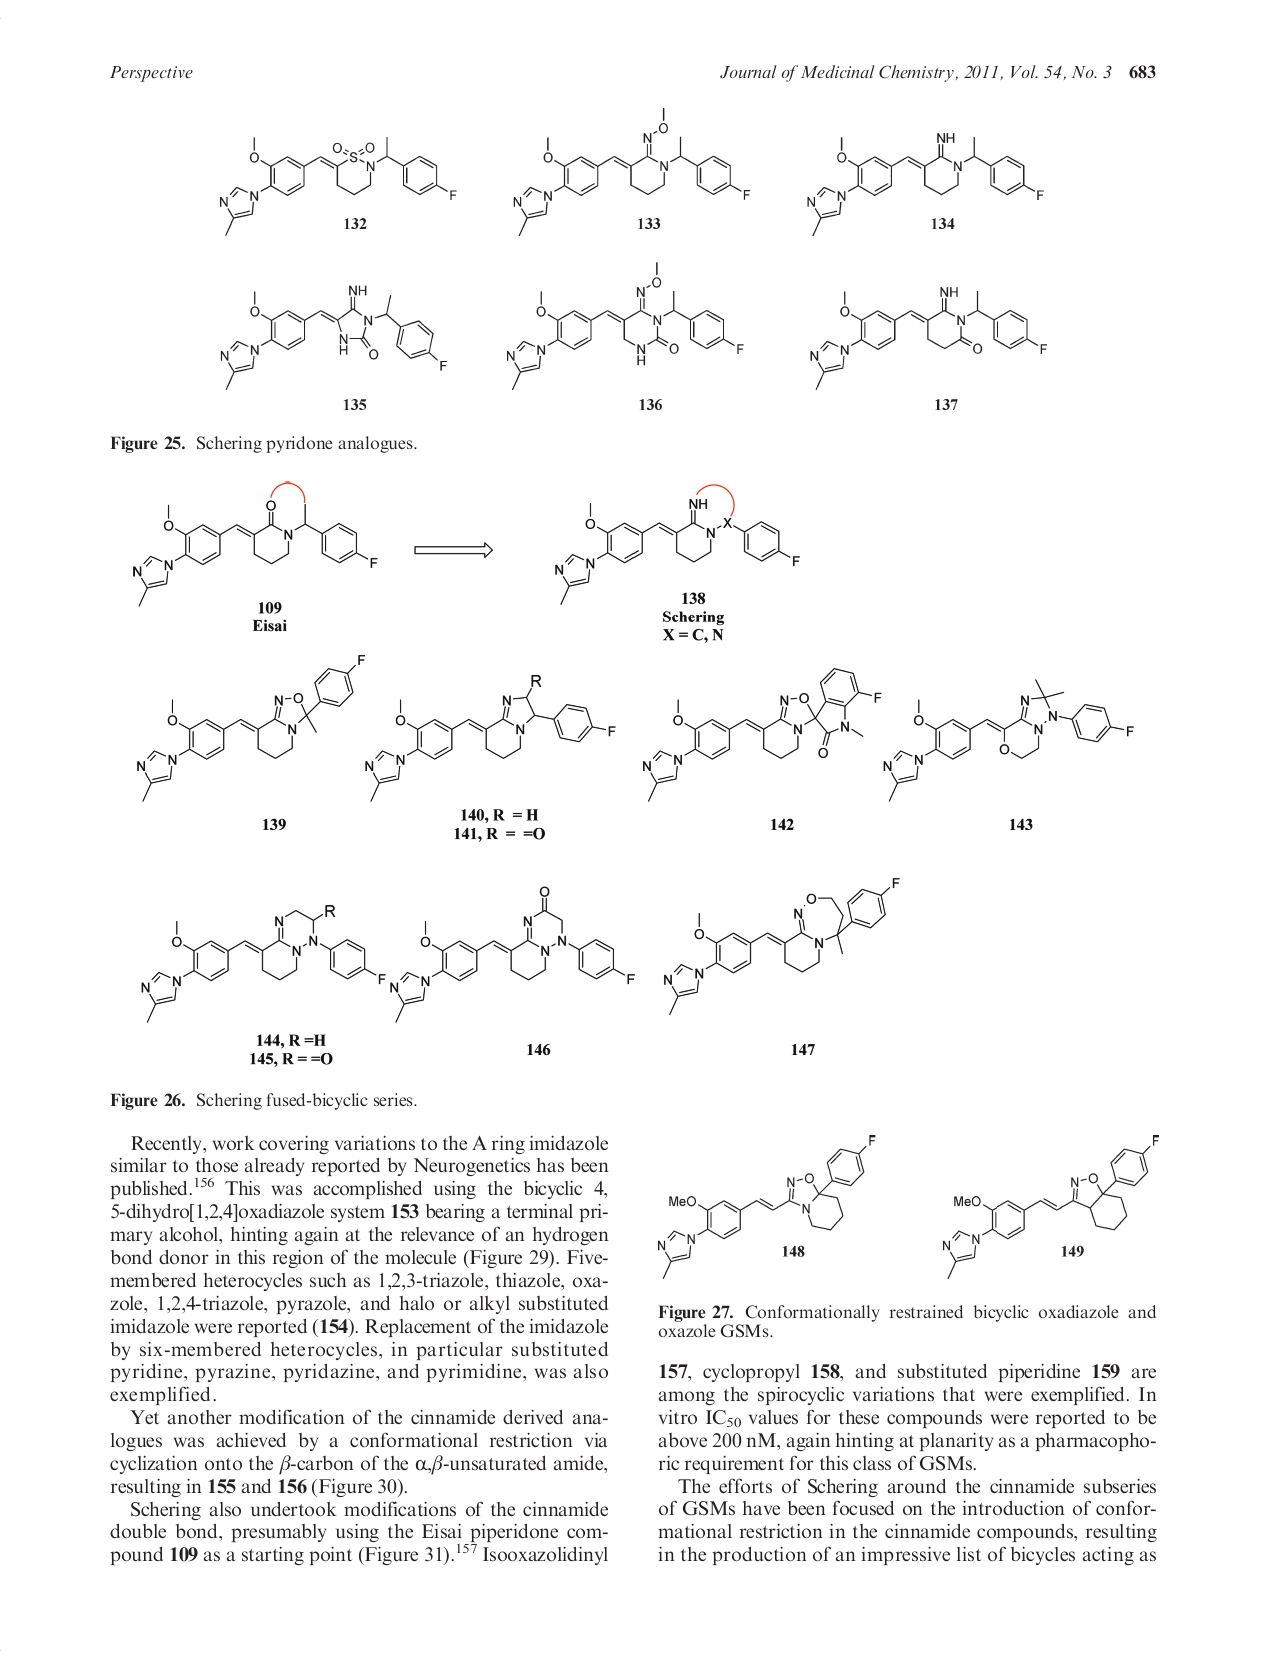exist_molecular: (360, 669, 626, 802), (656, 875, 904, 1016), (129, 650, 366, 797), (390, 884, 637, 1023), (936, 1130, 1164, 1281), (641, 664, 882, 805), (880, 676, 1140, 805), (652, 1132, 876, 1279), (503, 257, 750, 390), (509, 104, 751, 235), (140, 898, 386, 1023), (128, 491, 382, 608), (547, 492, 803, 606), (801, 129, 1048, 237), (802, 283, 1047, 390), (215, 283, 449, 391), (218, 132, 460, 235)
